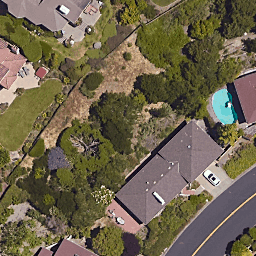car: (203, 169, 222, 187)
